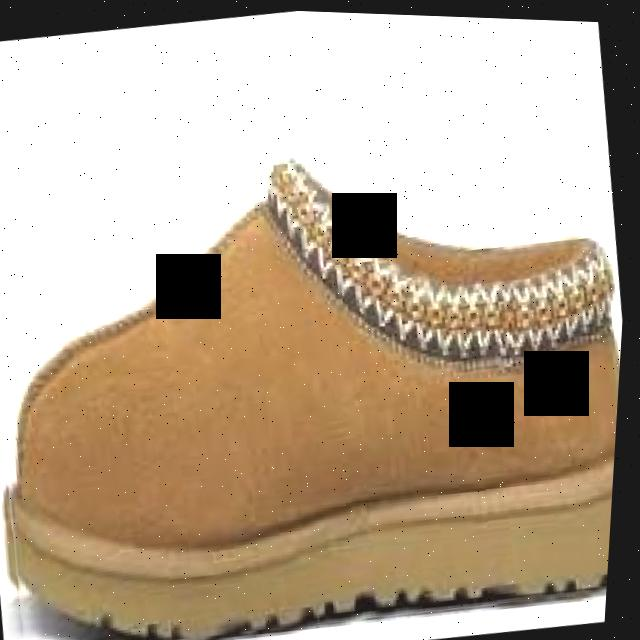shoe: (16, 160, 624, 635)
